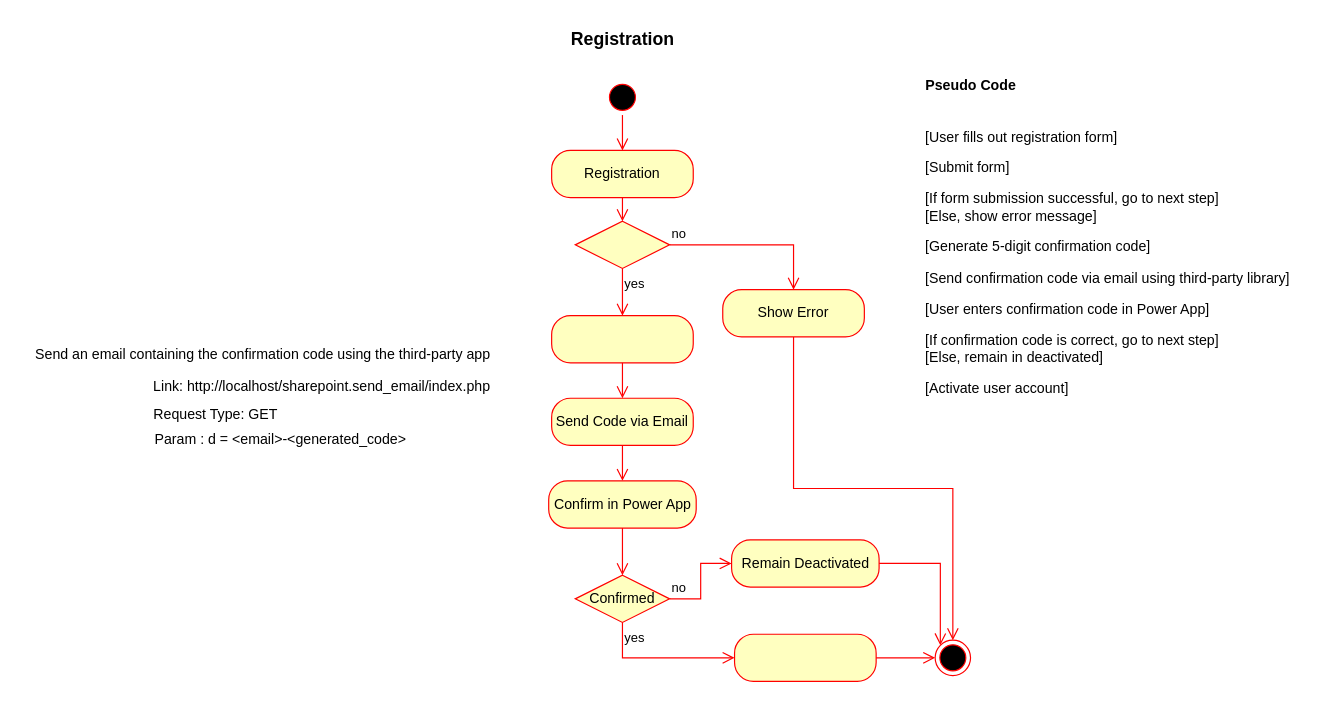
Image size: 1332x702. Some labels were removed from this diagram. Each missing label, with the centre of its shape:
"Activate Account" goes at [804,657].
"Generate Code" goes at [621,338].
"Success" goes at [622,244].
